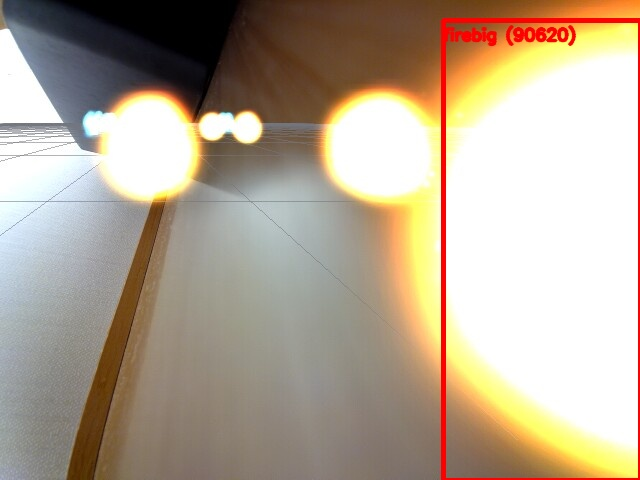firebig: (443, 20, 640, 480)
